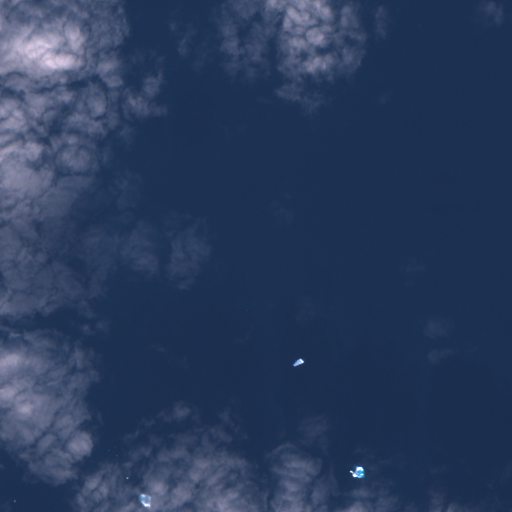Iceberg: (349, 466, 364, 477), (139, 494, 150, 507), (292, 358, 304, 366), (126, 477, 128, 478), (14, 500, 15, 501)
